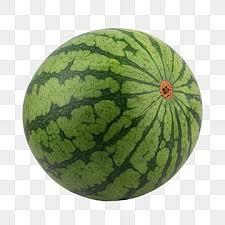non-mango: (22, 26, 202, 201)
